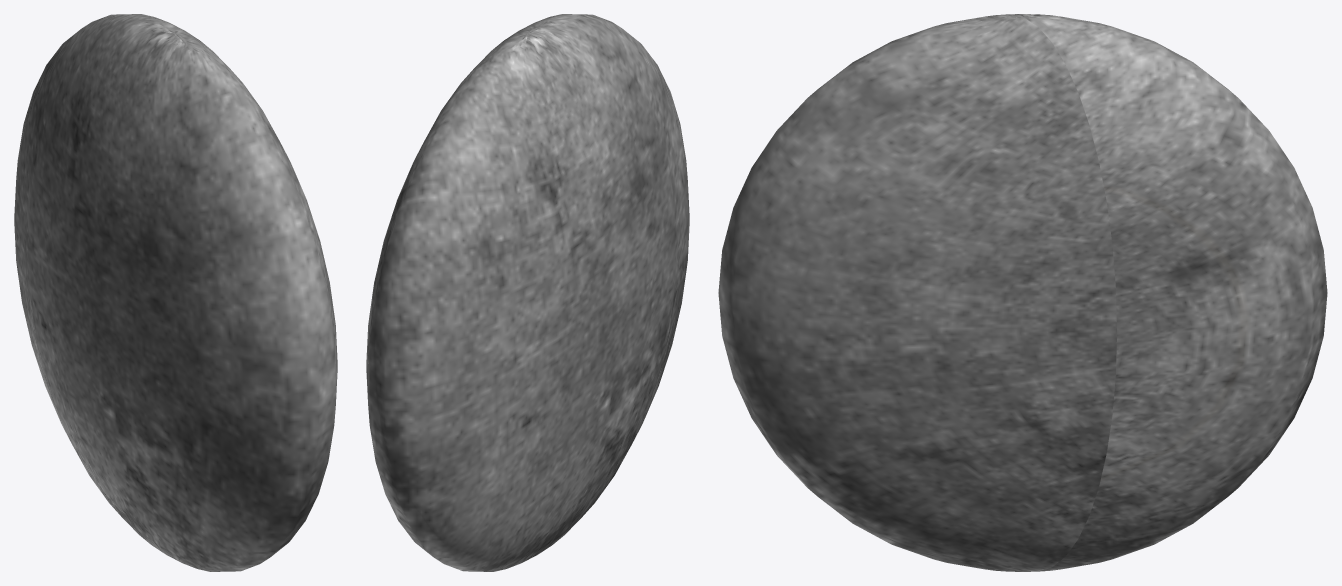
File: llantam.obj
3 views of the same model, side by side, from view 1: azimuth 30°, elevation 25°; view 2: azimuth 150°, elevation 25°; view 3: azimuth 270°, elevation 25° (orthographic). The views are drawn at different scales.
Visible parts, largest first — view 1: Moto.029; view 2: Moto.029; view 3: Moto.029.
Boxes of the visible parts, x1=… form: Moto.029: x1=14, y1=14, x2=337, y2=571; Moto.029: x1=366, y1=14, x2=689, y2=571; Moto.029: x1=718, y1=14, x2=1327, y2=571.
Size of the model in its own units: 0.7229 by 2.28 by 2.28.
